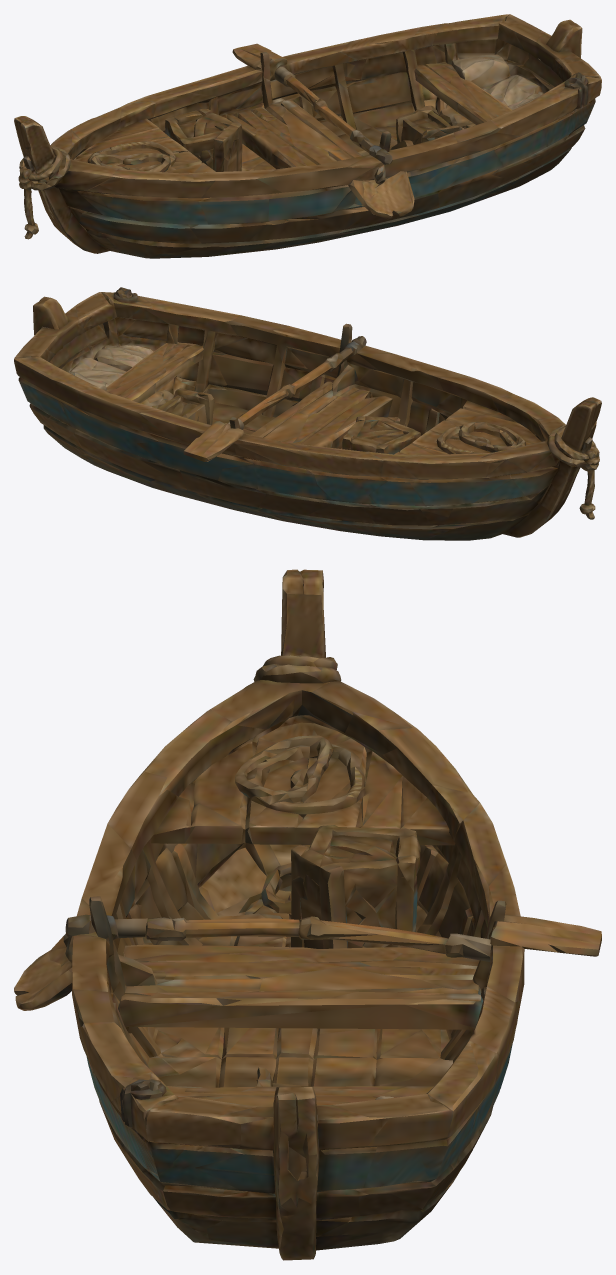
Rendered from lake-rowboat.glb.
The picture shows the model from 3 angles, top to bottom: view 1: azimuth 30°, elevation 25°; view 2: azimuth 150°, elevation 25°; view 3: azimuth 270°, elevation 25°; orthographic projection. The views are drawn at different scales.
Visible parts, largest first — view 1: output_unwrapped; view 2: output_unwrapped; view 3: output_unwrapped.
Part boxes in pixels (x1,y1,x2,y2): output_unwrapped: (14,14,601,258); output_unwrapped: (14,287,601,540); output_unwrapped: (14,569,601,1260).
Size of the model in its own units: 1.9 by 0.4816 by 1.01.
Materials: 1 (1 with a texture image).
